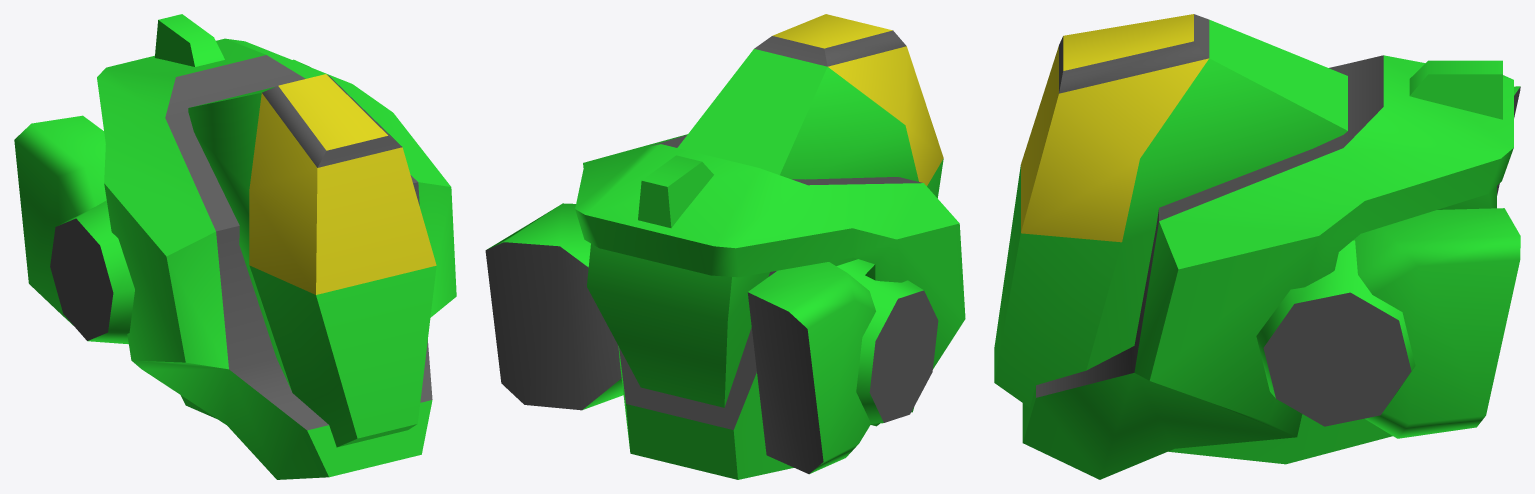
File: Cockpit_Heavy.fbx
3 views of the same model, side by side, from view 1: azimuth 30°, elevation 25°; view 2: azimuth 150°, elevation 25°; view 3: azimuth 270°, elevation 25° (orthographic). The views are drawn at different scales.
Visible parts, largest first — view 1: Geom_Cockpit_heavy; view 2: Geom_Cockpit_heavy; view 3: Geom_Cockpit_heavy.
Part boxes in pixels (x1,y1,x2,y2): Geom_Cockpit_heavy: (14,14,456,479); Geom_Cockpit_heavy: (485,14,965,479); Geom_Cockpit_heavy: (994,14,1520,479).
Bounding box in the file's own units: 162 × 173 × 199.
